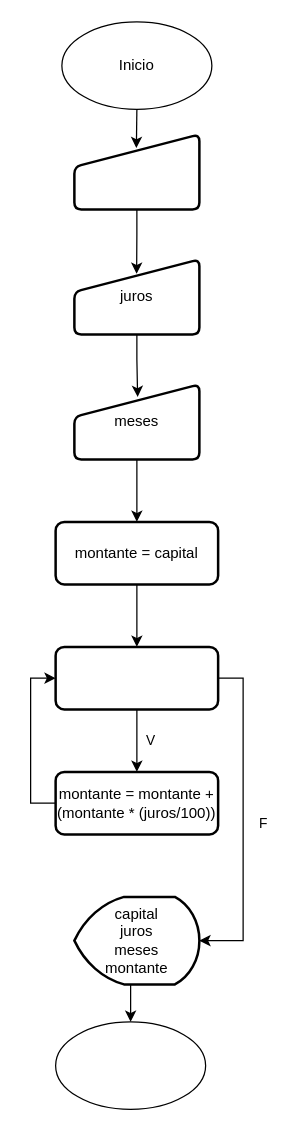
Image size: 289x1131. Some labels were removed from this diagram. Here are the shapes that lost their labels. From the top down, the box of each, then its label:
(72, 132, 200, 210): capital
(54, 645, 219, 710): i = 1; <meses; +1
(54, 1021, 206, 1109): Fim
